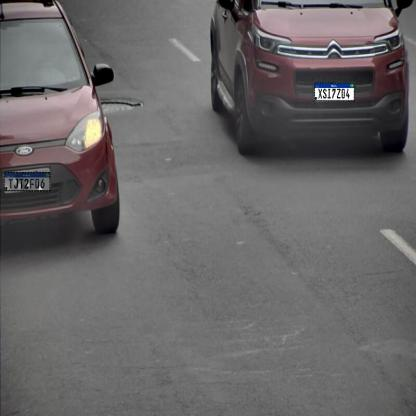PlacaM: (4, 172, 51, 191), (314, 83, 355, 101)
